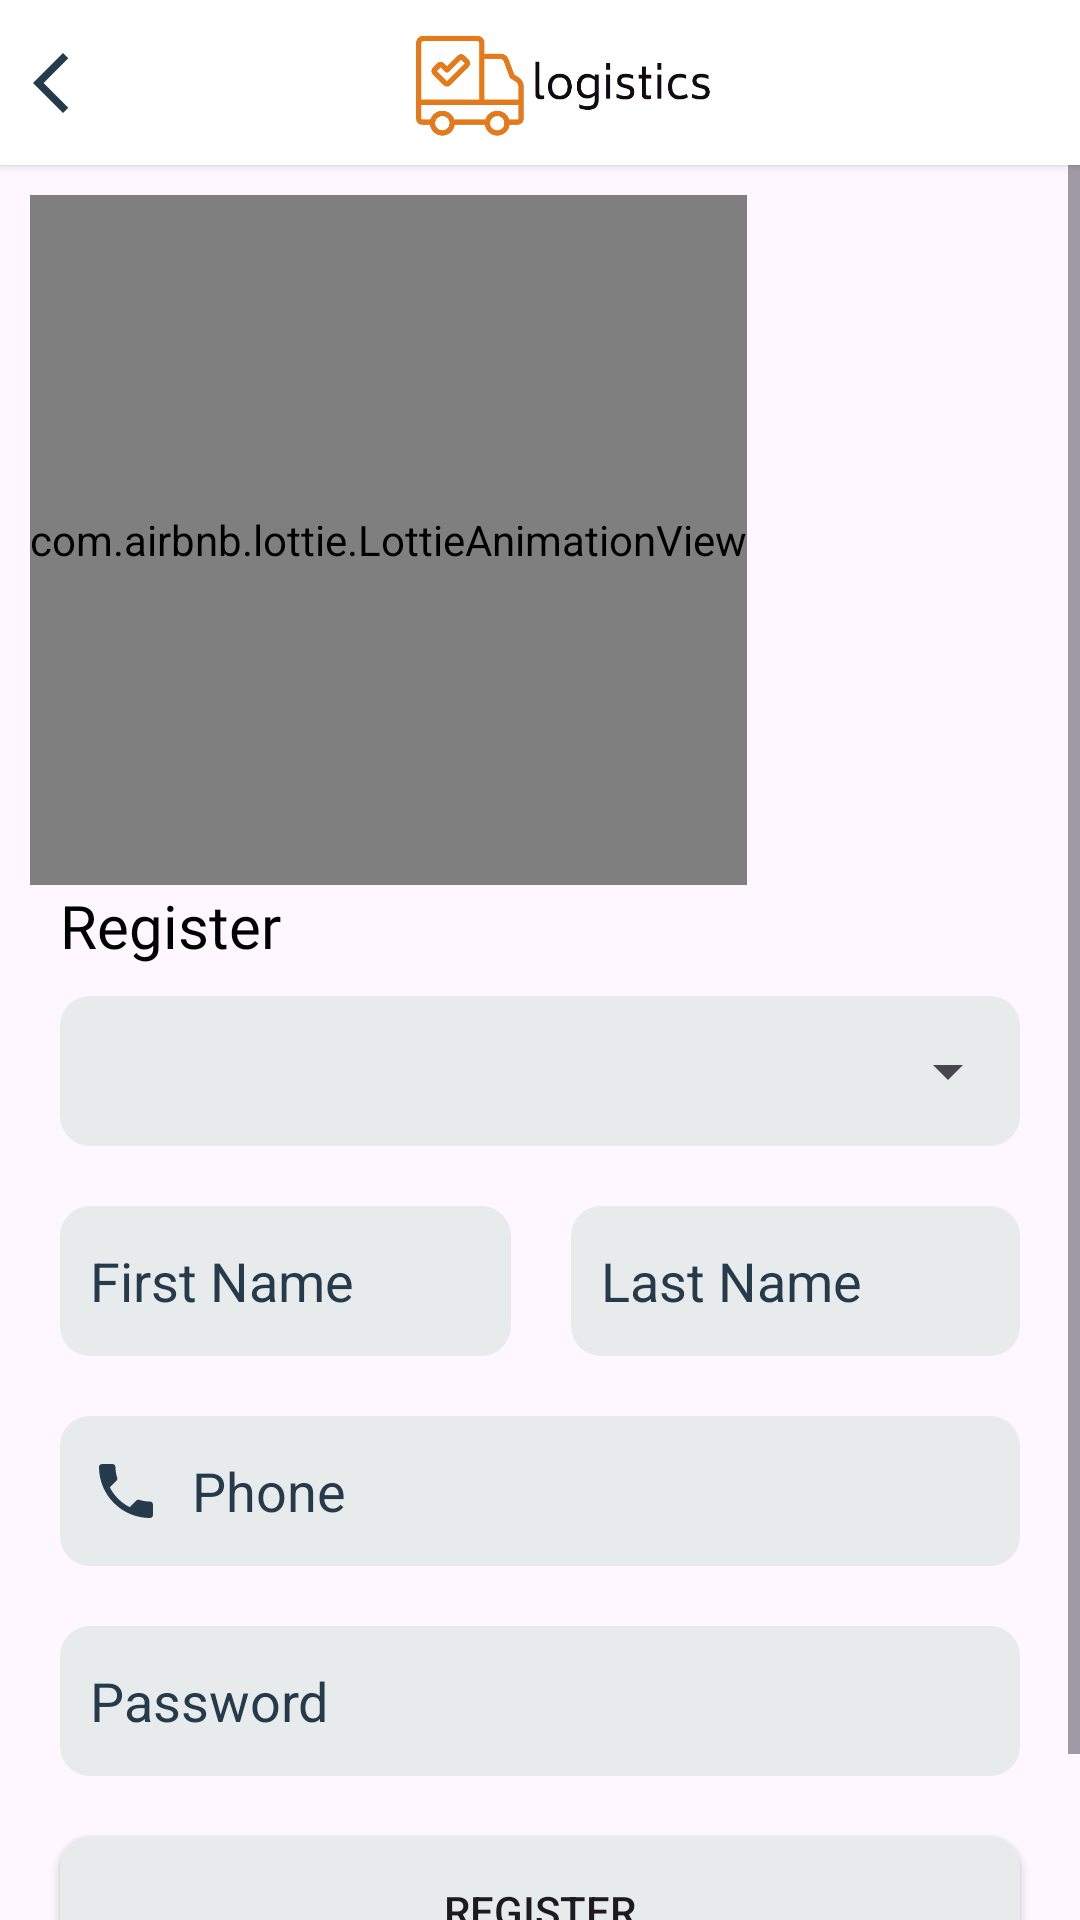

Screen size 1080×1920. Icon name, then its box in pixels as (x1, y1, x2, y2):
back arrow: (33, 53, 68, 113)
